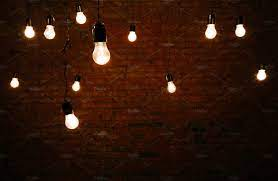bulb: (89, 34, 116, 71), (58, 110, 83, 133), (203, 18, 221, 42), (21, 17, 39, 40), (41, 22, 59, 45), (163, 76, 182, 95), (233, 21, 250, 41), (251, 67, 271, 84), (73, 10, 89, 28), (7, 75, 23, 92), (125, 29, 143, 43), (69, 79, 87, 92)
